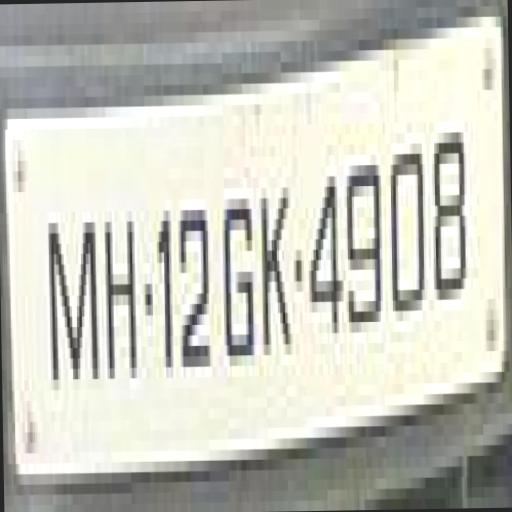number plate: (0, 0, 485, 506)
